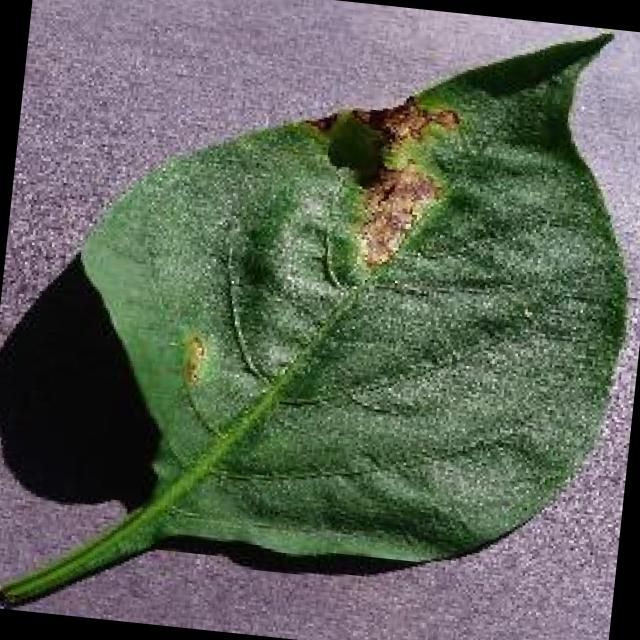Chilli_Bacterial_Spot: (0, 0, 640, 640), (168, 69, 470, 460), (292, 83, 466, 278), (346, 150, 445, 276), (316, 106, 392, 188), (376, 90, 464, 154), (174, 328, 210, 391), (423, 102, 463, 133)
